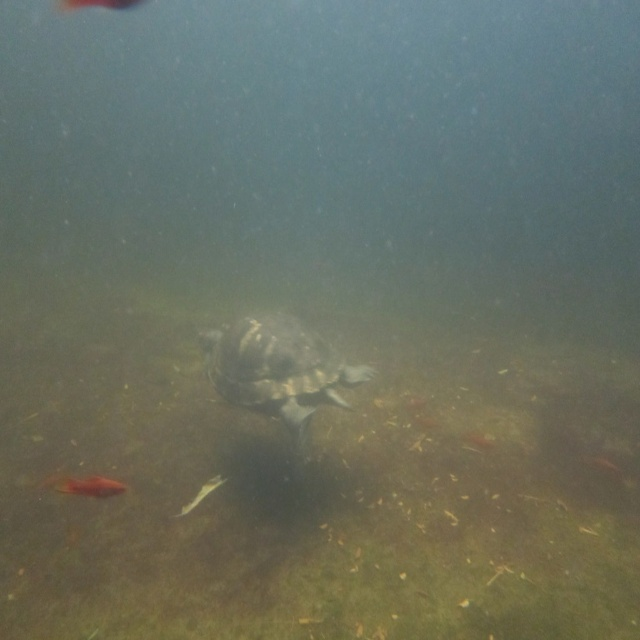Fish: (58, 476, 128, 498)
